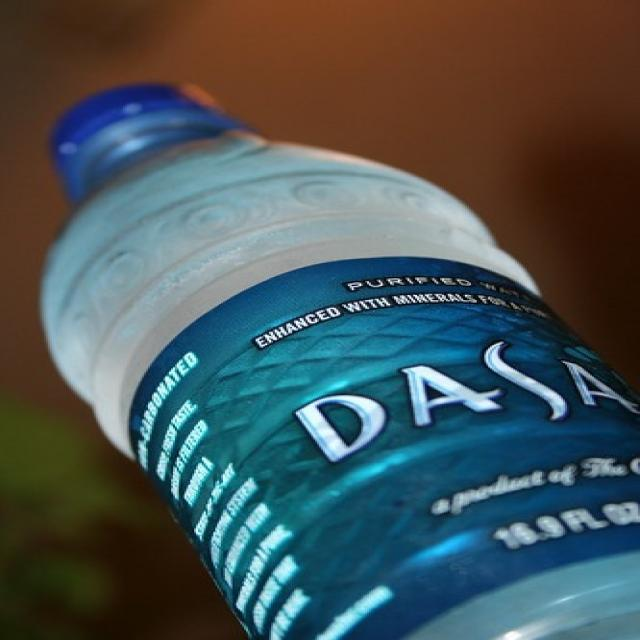plastic_bottle: (37, 82, 640, 637)
